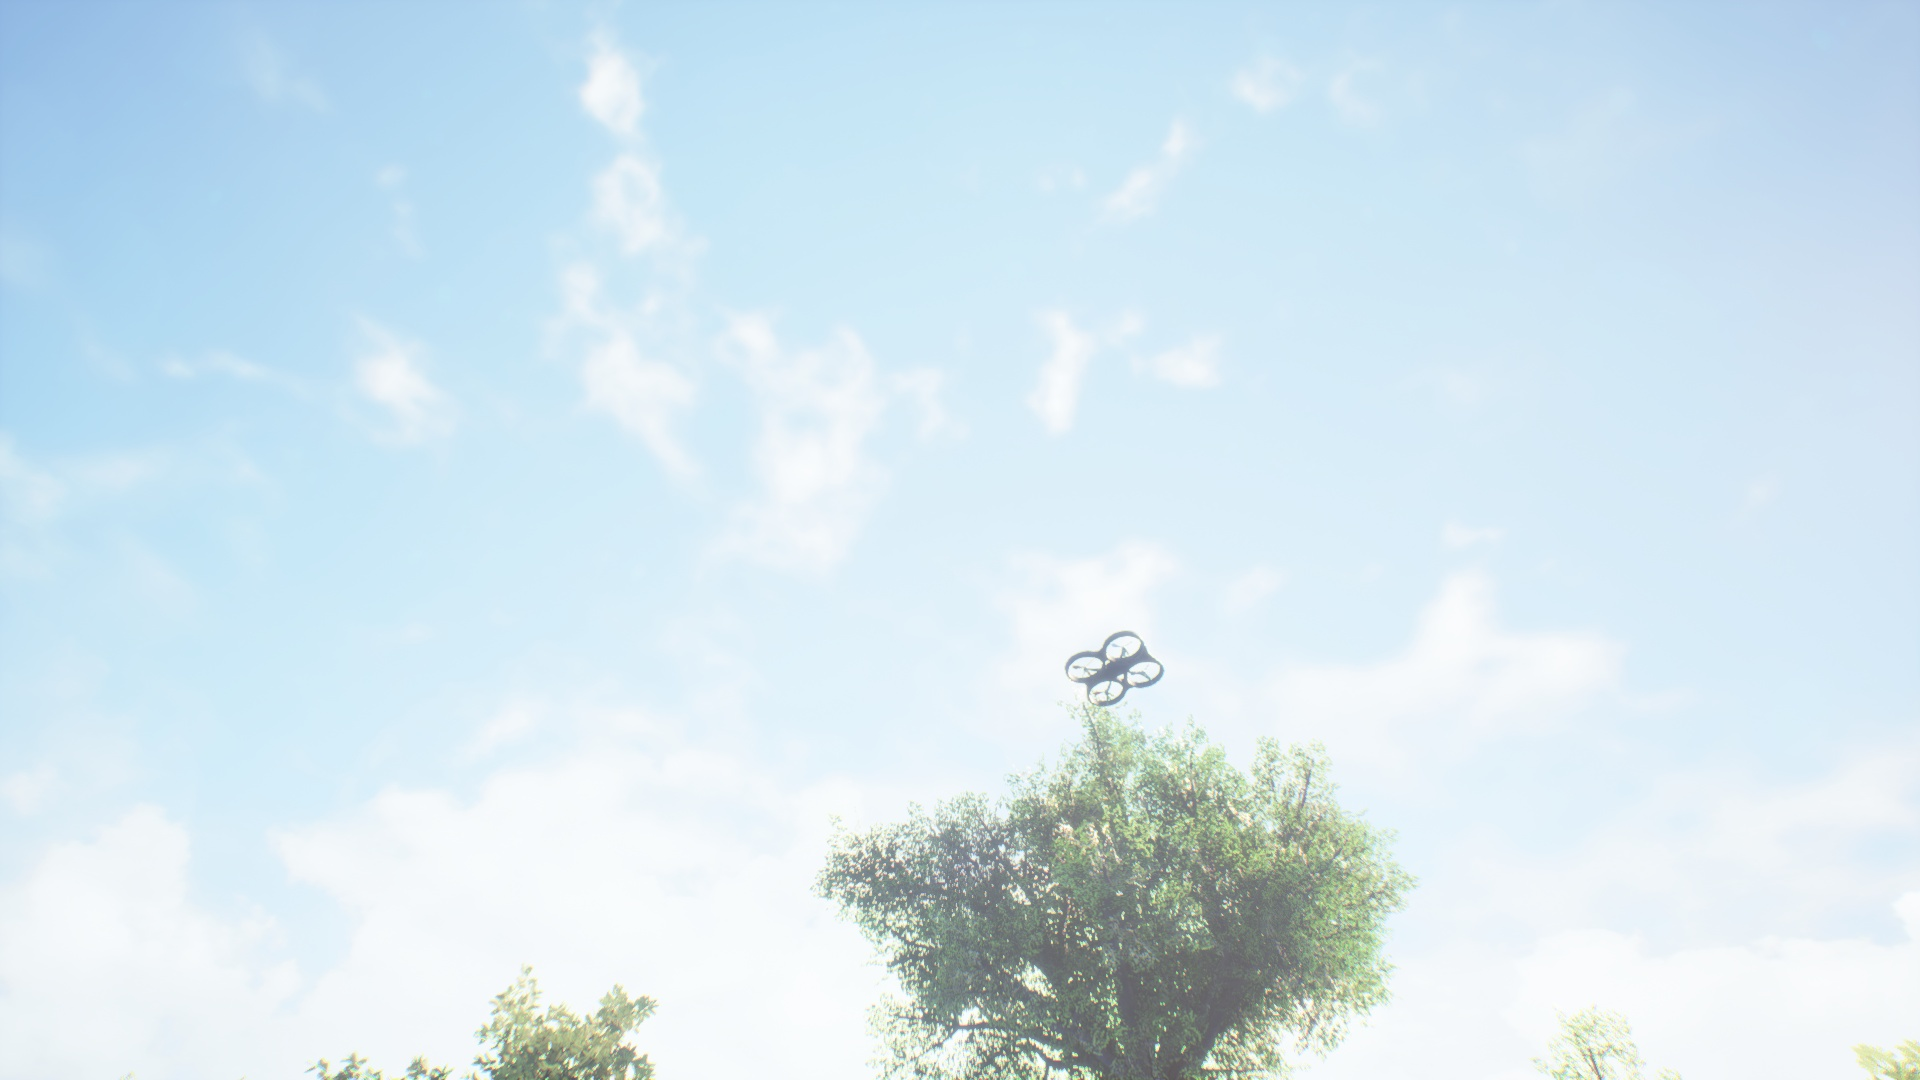UAV: (1011, 600, 1145, 717)
